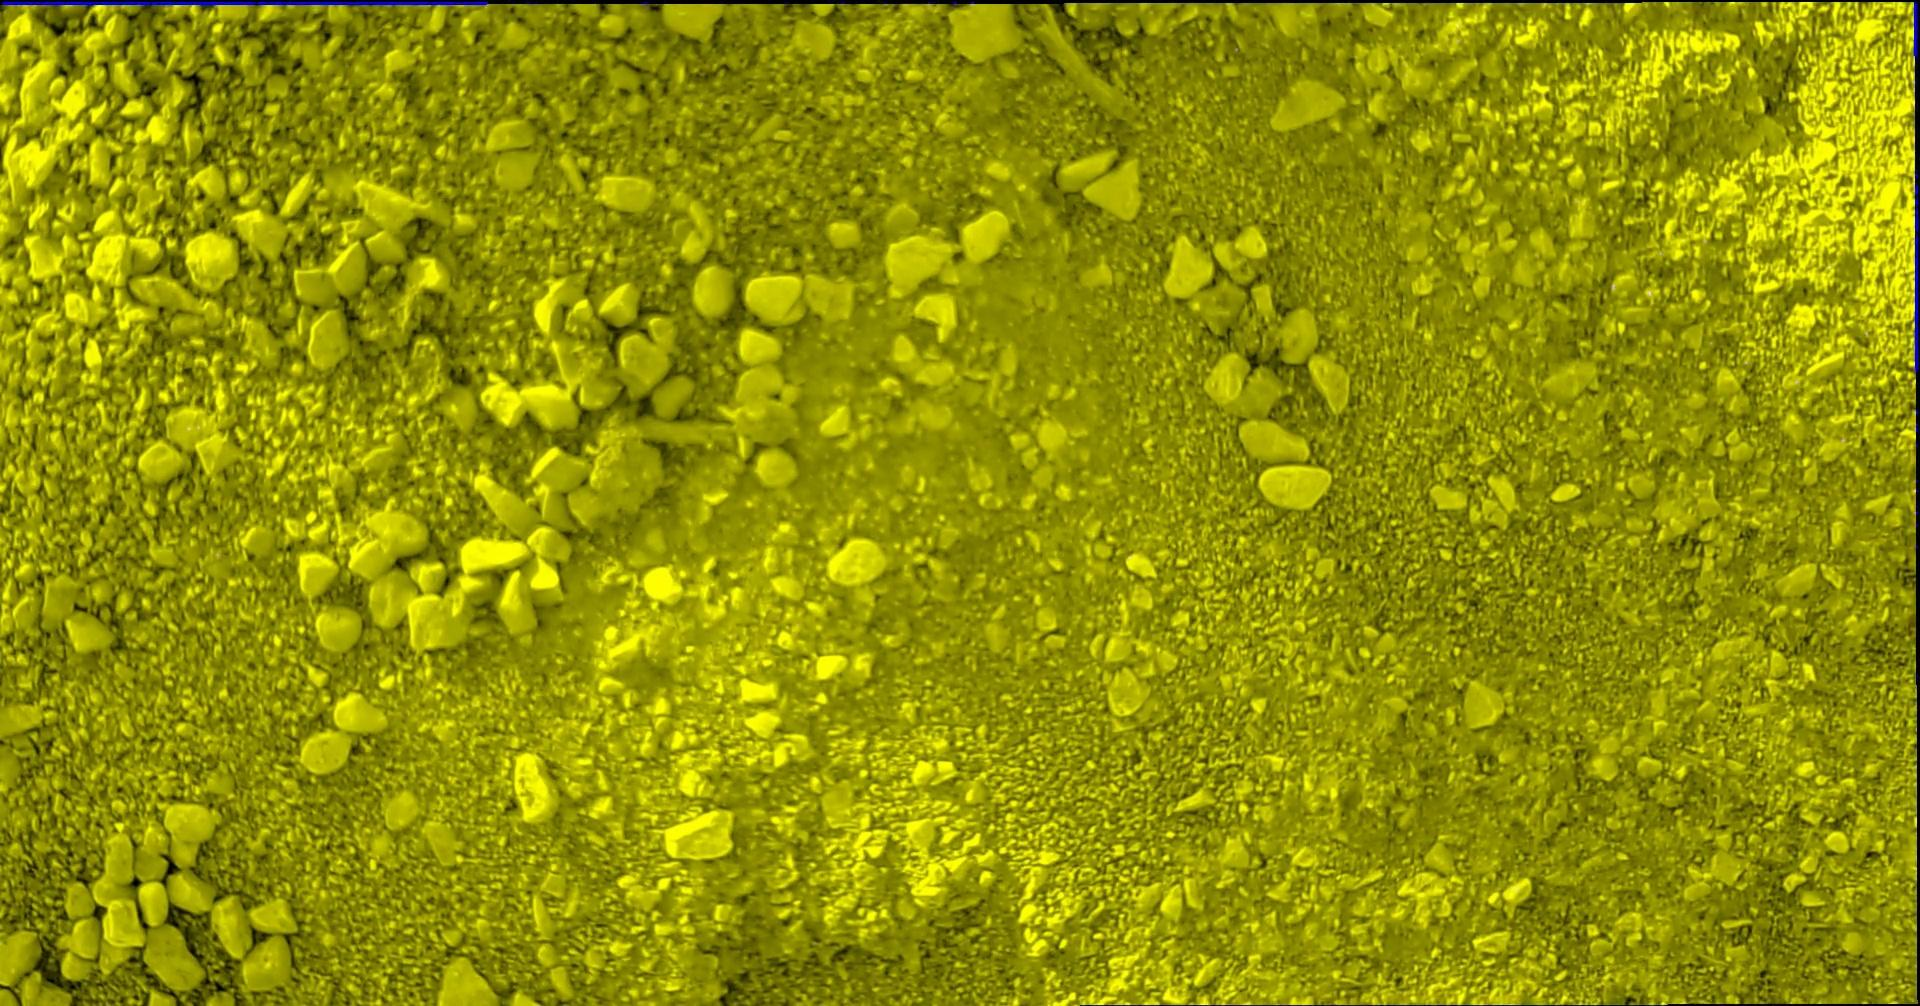ant: (1912, 184, 1919, 373), (1912, 0, 1919, 58)
